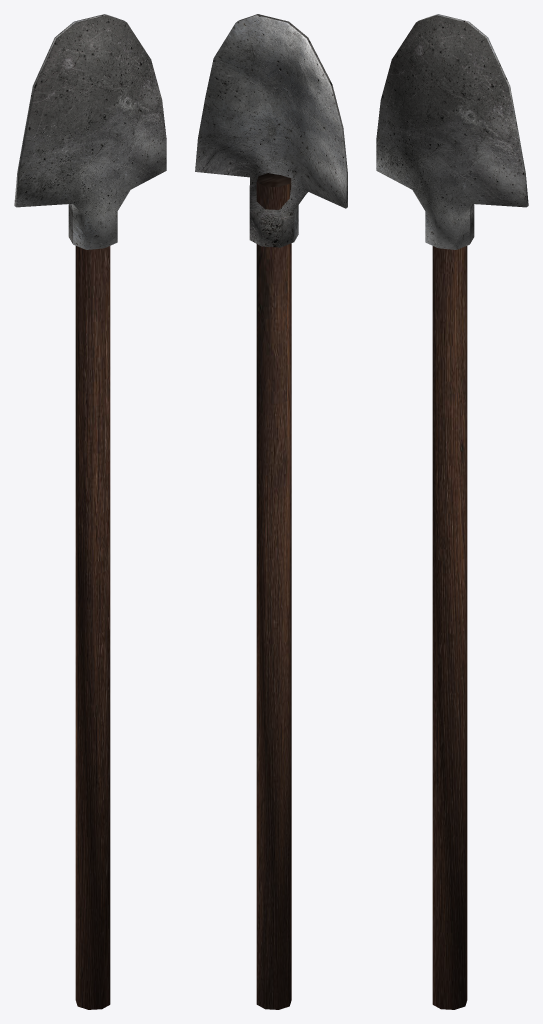
File: shovel.fbx
3 views of the same model, side by side, from view 1: azimuth 30°, elevation 25°; view 2: azimuth 150°, elevation 25°; view 3: azimuth 330°, elevation 25° (orthographic).
Visible parts, largest first — view 1: Cube.006; view 2: Cube.006; view 3: Cube.006.
Part boxes in pixels (box(x1,y1,x2,y2)): Cube.006: box(14, 14, 166, 1009); Cube.006: box(195, 14, 347, 1009); Cube.006: box(376, 14, 528, 1009).
Bounding box in the file's own units: 20.93 × 5.84 × 131.
2 materials, 2 textured.
